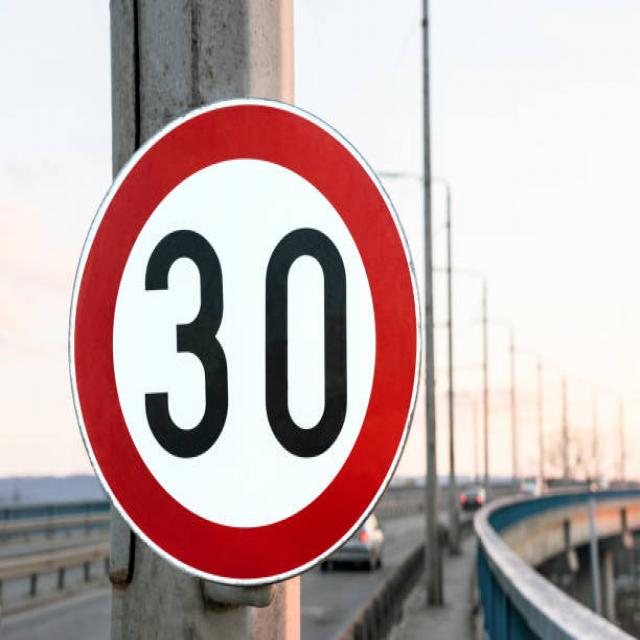speed_limit_30: (50, 88, 425, 593)
